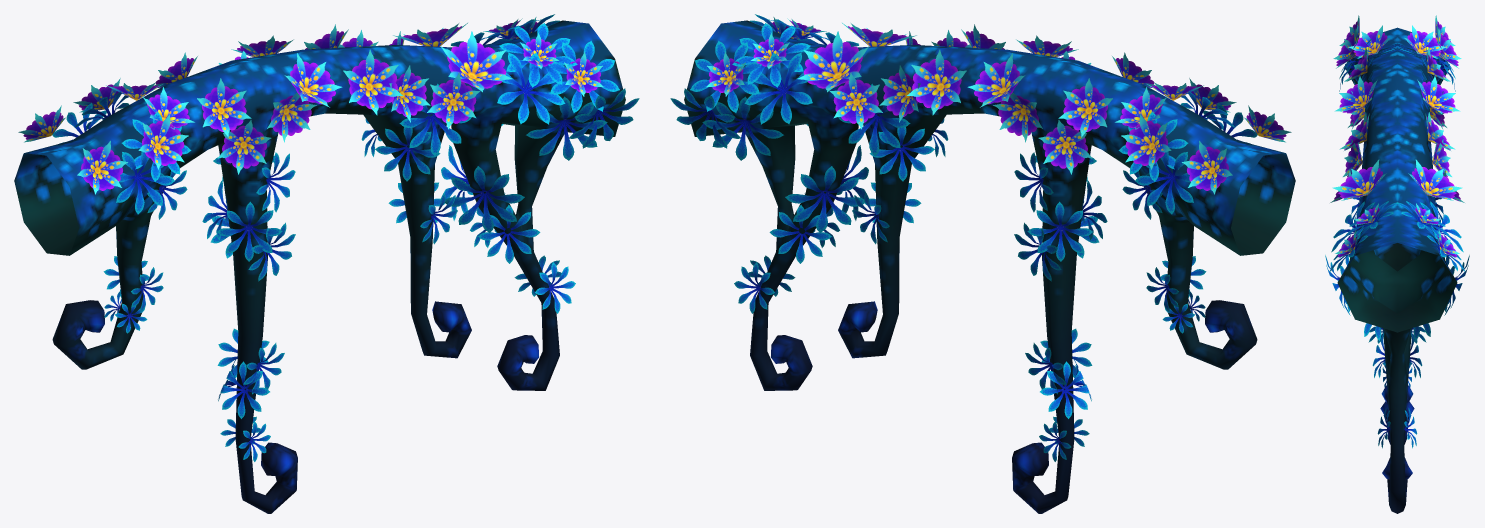
Rendered from Blue_Bridge.FBX.
3 views of the same model, side by side, from view 1: azimuth 30°, elevation 25°; view 2: azimuth 150°, elevation 25°; view 3: azimuth 270°, elevation 25° (orthographic). The views are drawn at different scales.
Visible parts, largest first — view 1: Blue_Bridge; view 2: Blue_Bridge; view 3: Blue_Bridge.
Boxes of the visible parts, x1,y1,x2,y2 form: Blue_Bridge: (14, 14, 639, 513); Blue_Bridge: (670, 14, 1295, 513); Blue_Bridge: (1325, 15, 1469, 513).
Size of the model in its own units: 414 by 332 by 116.
